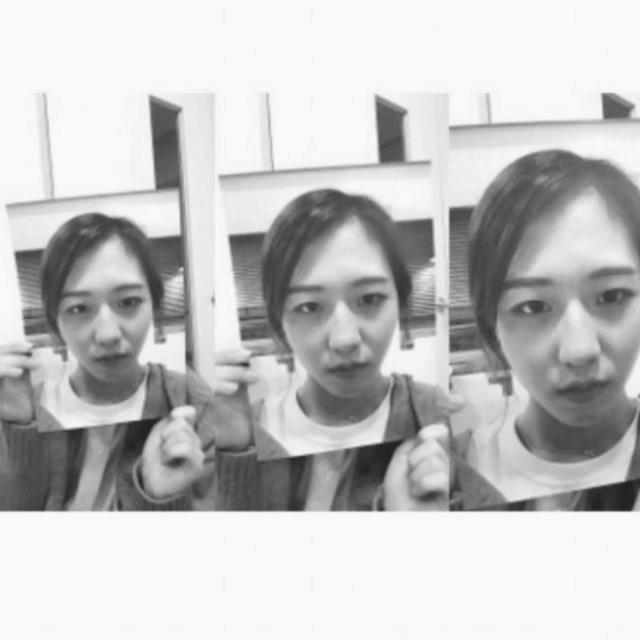fake: (448, 114, 640, 508), (218, 154, 438, 458), (3, 184, 189, 434)
